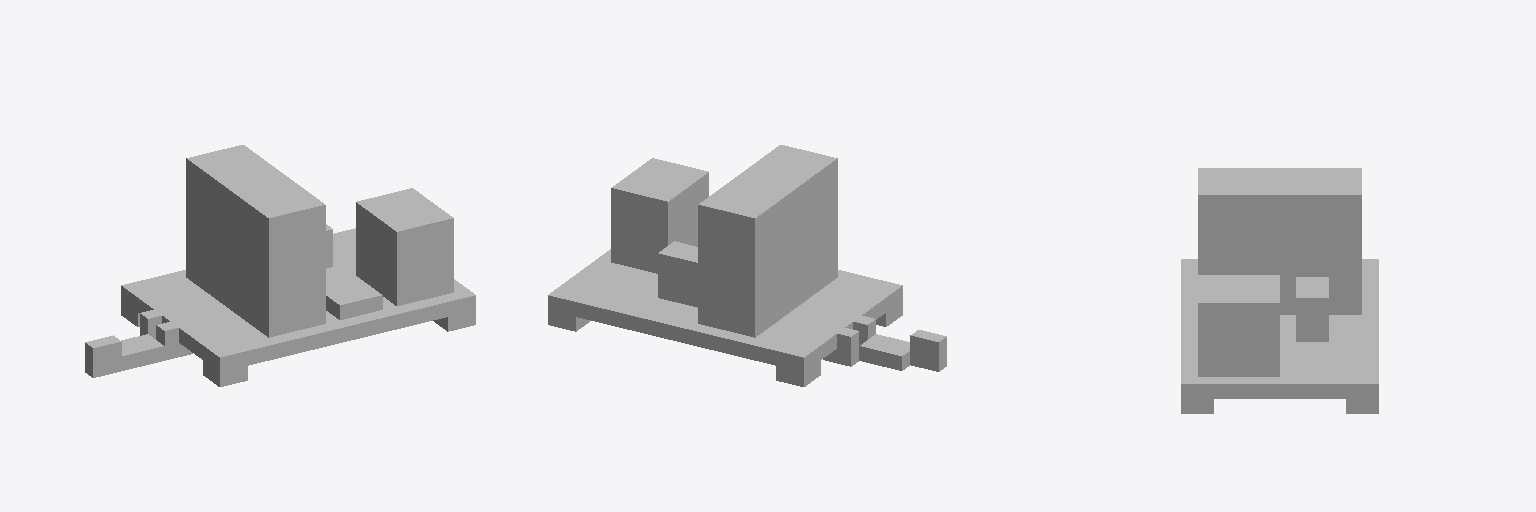
The model's file is Cart.obj.
3 renders of one model, left to right at view 1: azimuth 30°, elevation 25°; view 2: azimuth 150°, elevation 25°; view 3: azimuth 270°, elevation 25°, orthographic.
Visible parts, largest first — view 1: object 1; view 2: object 1; view 3: object 1.
Part boxes in pixels (bbox=[...]): object 1: bbox=[85, 145, 475, 386]; object 1: bbox=[548, 145, 946, 386]; object 1: bbox=[1181, 168, 1378, 413].
Bounding box in the file's own units: 2.4 × 1 × 1.2.